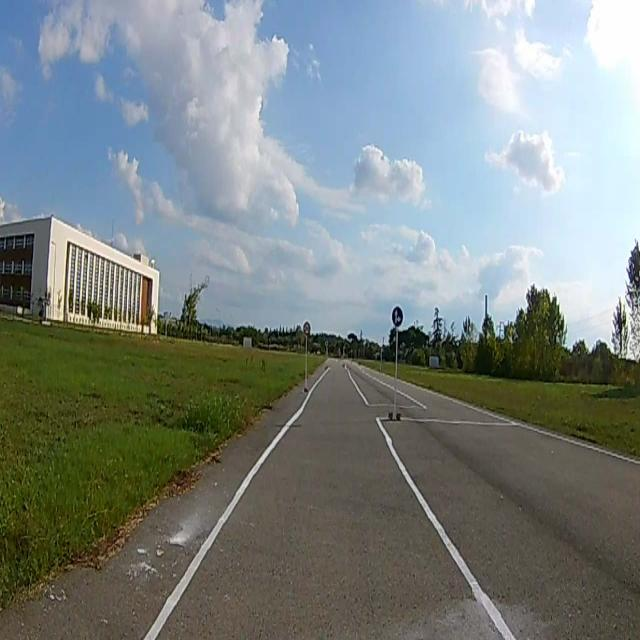ilerisag: (392, 305, 402, 327)
